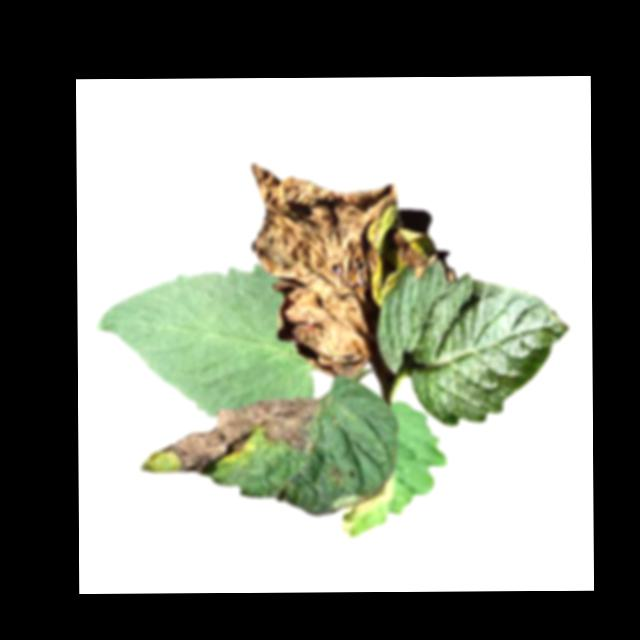Late_blight: (251, 160, 399, 378), (161, 396, 320, 476), (331, 478, 393, 538), (391, 229, 431, 279)
healthy: (94, 264, 318, 420), (375, 259, 574, 428)
